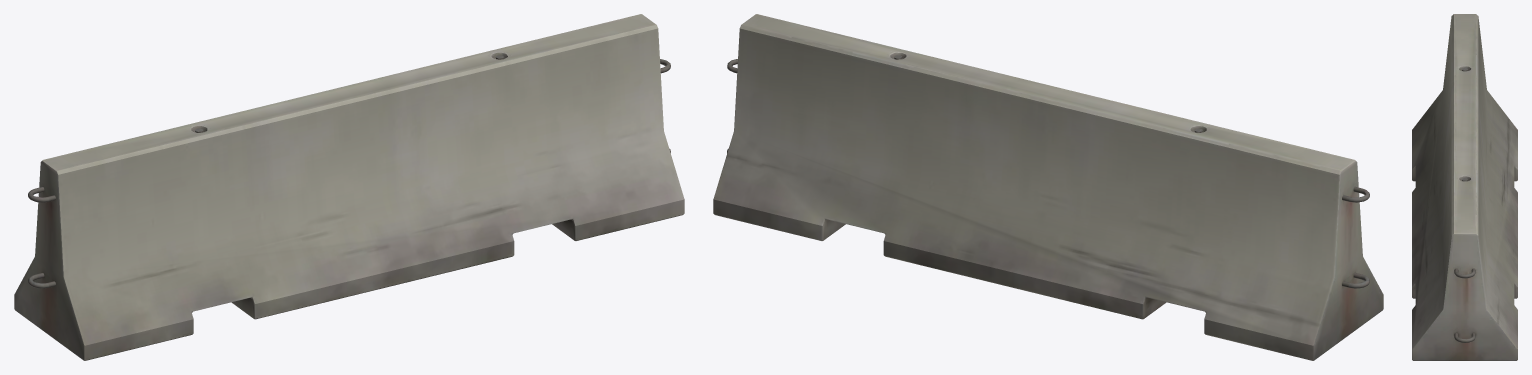
File: jersey-barrier.glb
The picture shows the model from 3 angles, left to right: view 1: azimuth 30°, elevation 25°; view 2: azimuth 150°, elevation 25°; view 3: azimuth 270°, elevation 25°; orthographic projection. The views are drawn at different scales.
Visible parts, largest first — view 1: jersey-barrier_body; view 2: jersey-barrier_body; view 3: jersey-barrier_body.
Part boxes in pixels (left/top/right/bottom): jersey-barrier_body: left=14, top=14, right=684, bottom=360; jersey-barrier_body: left=713, top=14, right=1383, bottom=360; jersey-barrier_body: left=1412, top=14, right=1517, bottom=360.
Bounding box in the file's own units: 3.19 × 0.8126 × 0.6096.
Materials: 1 (1 with a texture image).
